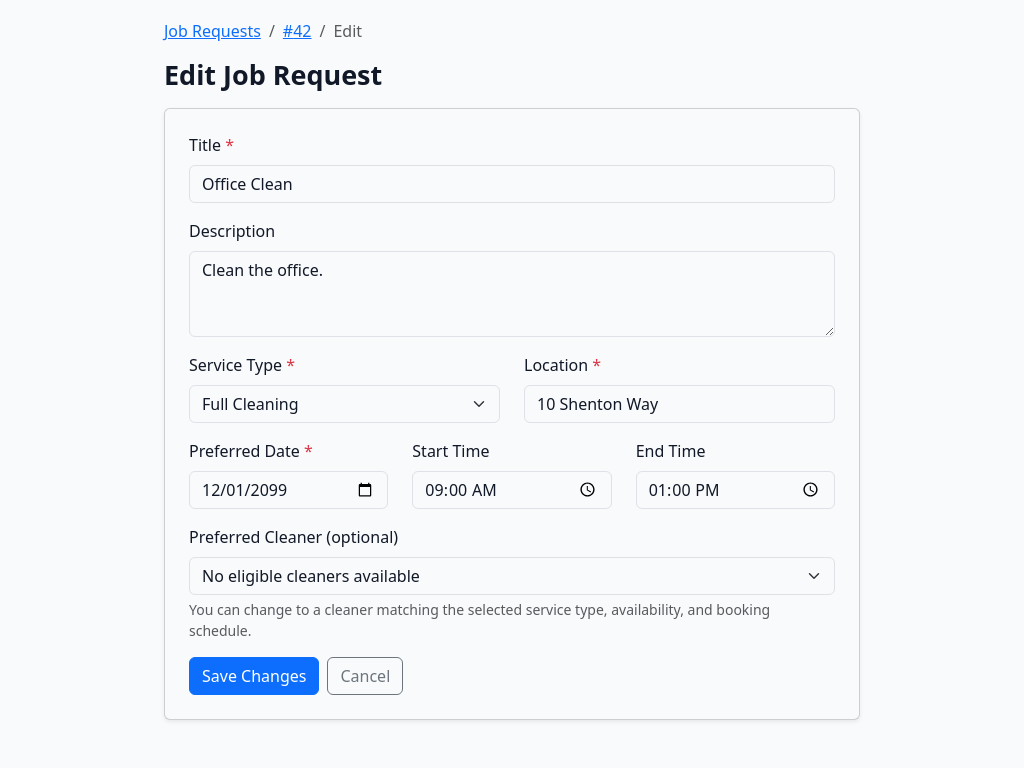
Test: EditJobRequestPage › shows error when save fails
(page scrolled)
What coordinates should you click on to do the following:
click the button "Save Changes"
I would click on:
 (254, 676)
Its box is [189,656,320,694].
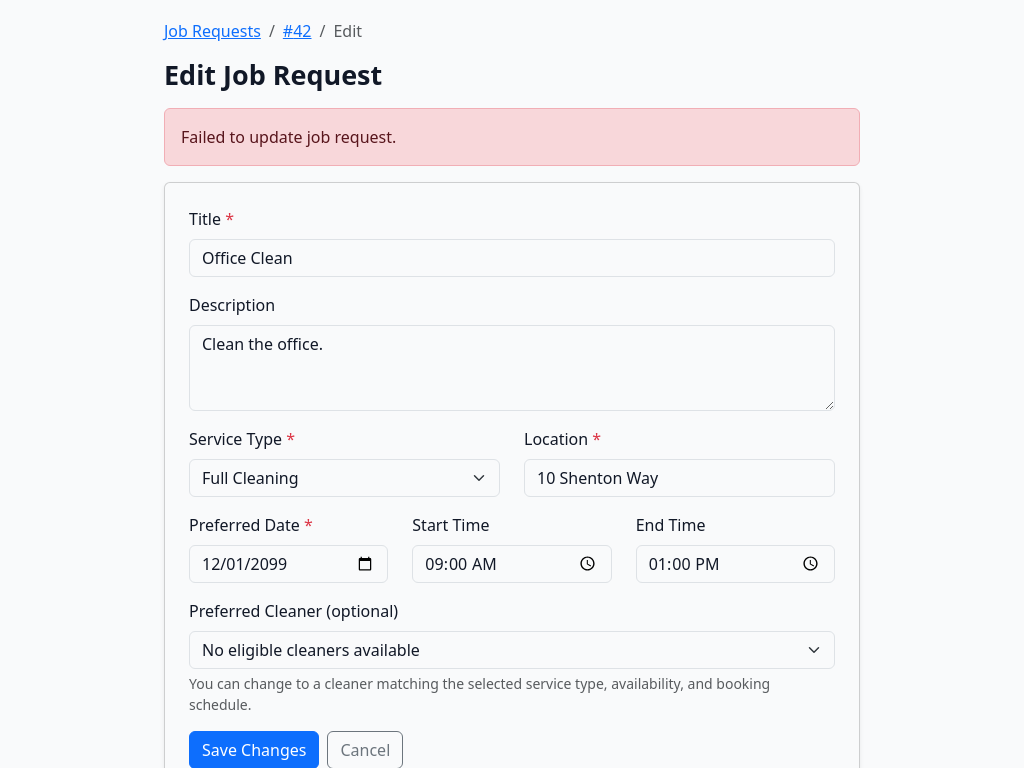
expect the text "Failed to update job request." is shown: met, box [164,108,860,166]
